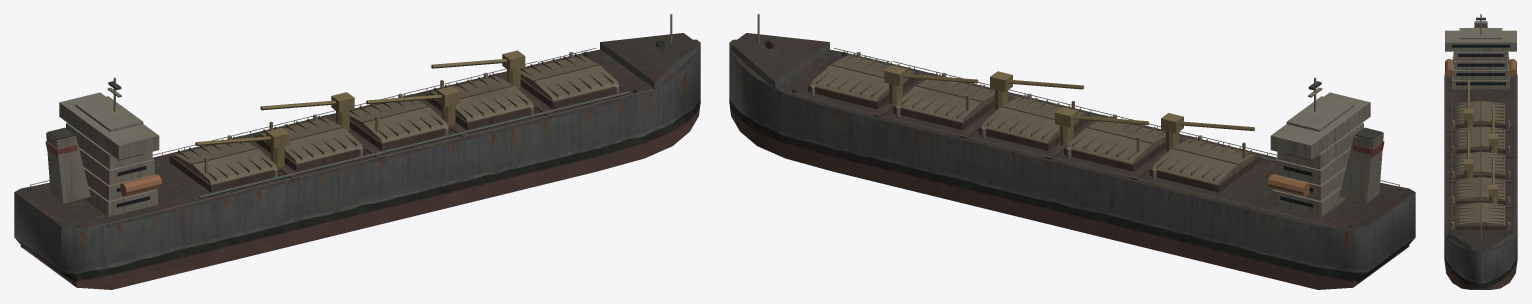
File: fh_battle_e_ship_bulk.glb
3 views of the same model, side by side, from view 1: azimuth 30°, elevation 25°; view 2: azimuth 150°, elevation 25°; view 3: azimuth 270°, elevation 25° (orthographic). The views are drawn at different scales.
Parts seen in each view (by area): view 1: body; view 2: body; view 3: body.
Part boxes in pixels (box(x1,y1,x2,y2)): body: box(14, 14, 700, 289); body: box(729, 14, 1415, 289); body: box(1444, 14, 1517, 289).
Bounding box in the file's own units: 1 × 0.2625 × 0.1583.
Materials: 1 (1 with a texture image).
